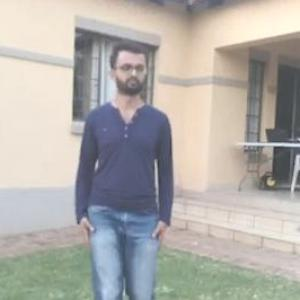follow: (81, 46, 174, 299)
